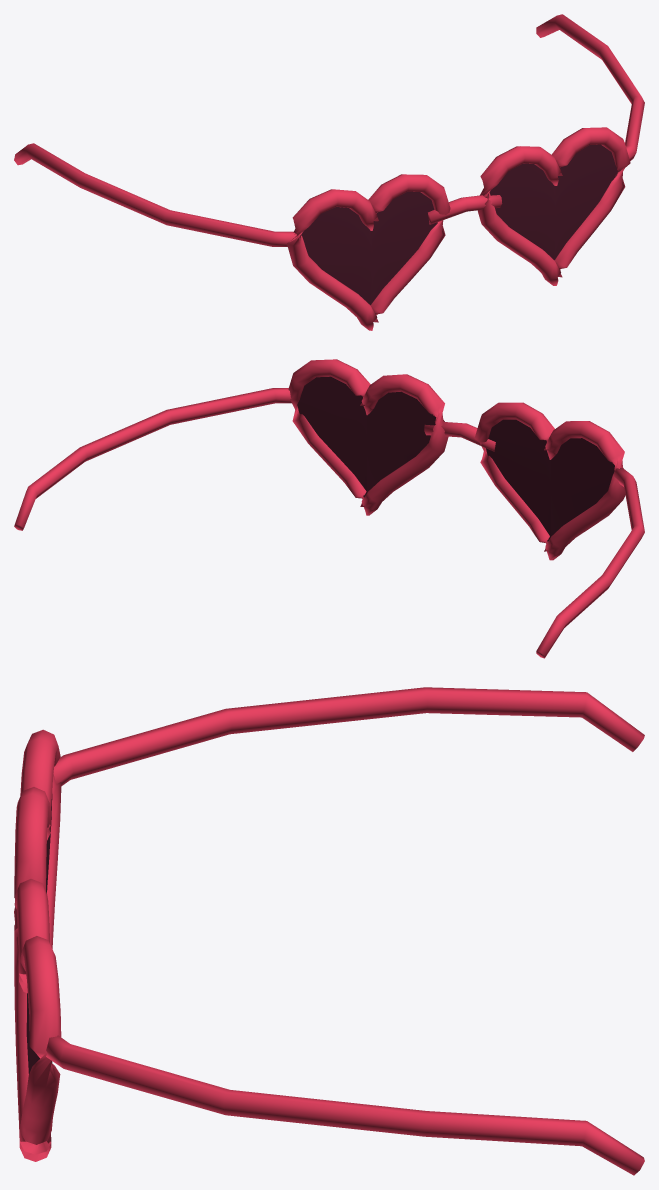
Rendered from gafas_corazon.glb.
3 views of the same model, one above another, from view 1: azimuth 30°, elevation 25°; view 2: azimuth 150°, elevation 25°; view 3: azimuth 270°, elevation 25° (orthographic). The views are drawn at different scales.
Parts seen in each view (by area): view 1: gafas_corazon; view 2: gafas_corazon; view 3: gafas_corazon.
Part boxes in pixels (bbox=[...]): gafas_corazon: bbox=[14, 14, 644, 330]; gafas_corazon: bbox=[14, 359, 644, 658]; gafas_corazon: bbox=[14, 687, 644, 1175].
Size of the model in its own units: 1.05 by 0.2753 by 0.637.
